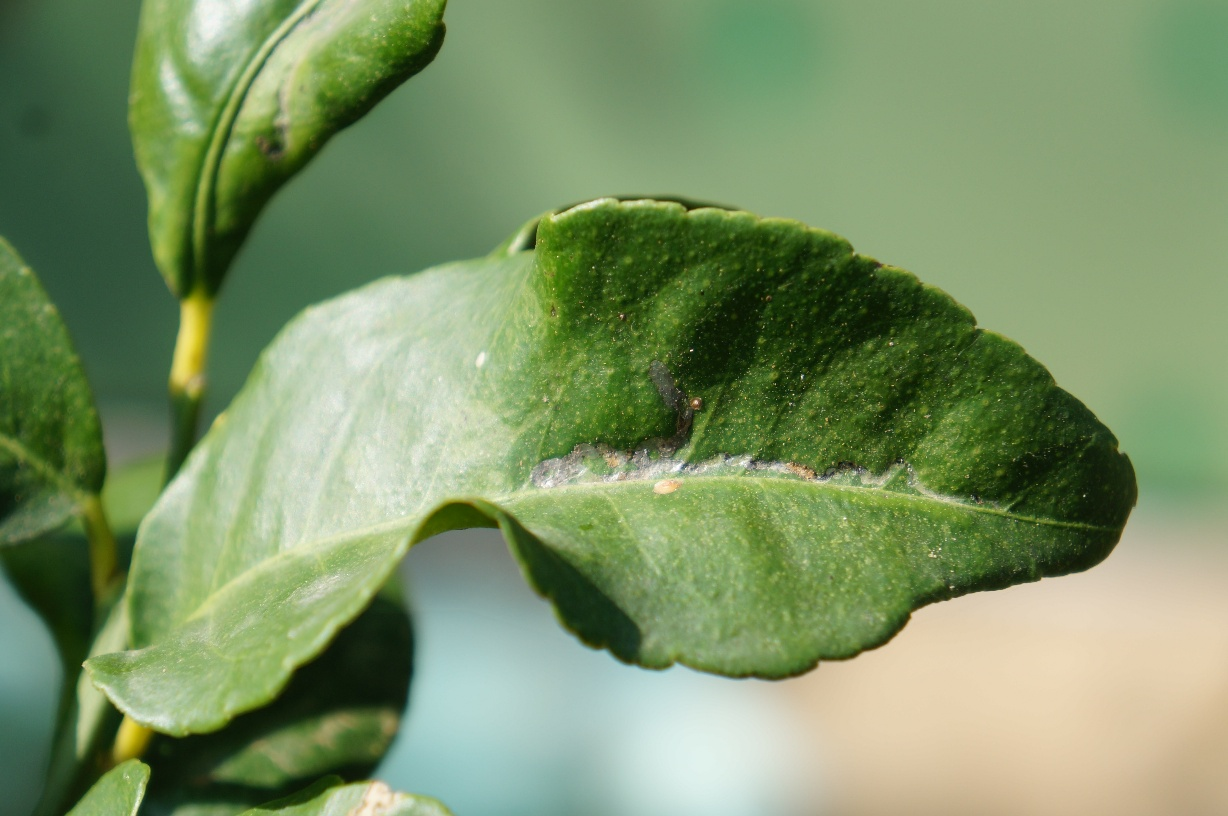damage: (508, 344, 1093, 553)
